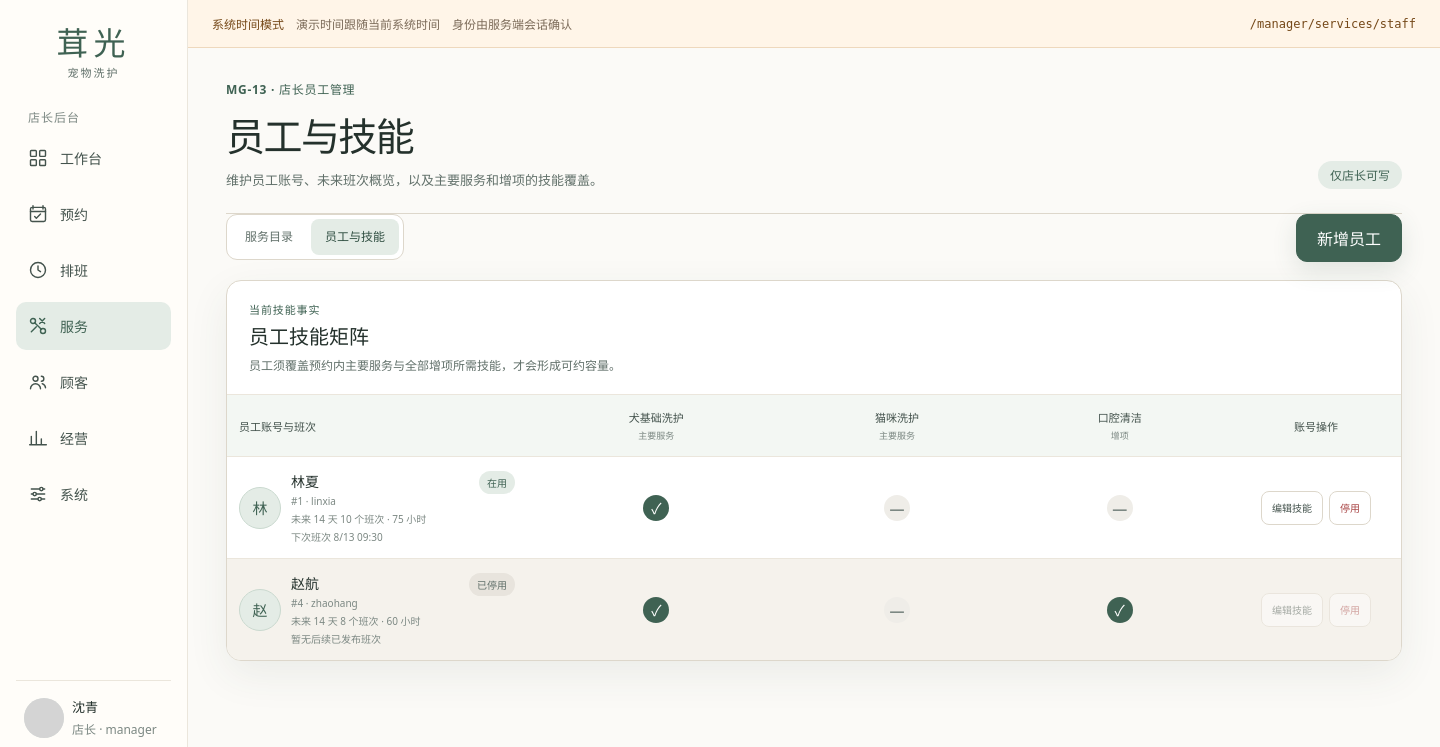
Scenario: MG-13 员工账号与员工技能页面 › 停用被未来预约阻断时列出准确错误与逐笔处理入口
The image size is (1440, 747).
What coordinates should you click on to do the following:
click the button with aria-label "停用林夏账号"
I would click on:
 (1350, 508)
Its box is [1329, 490, 1371, 524].
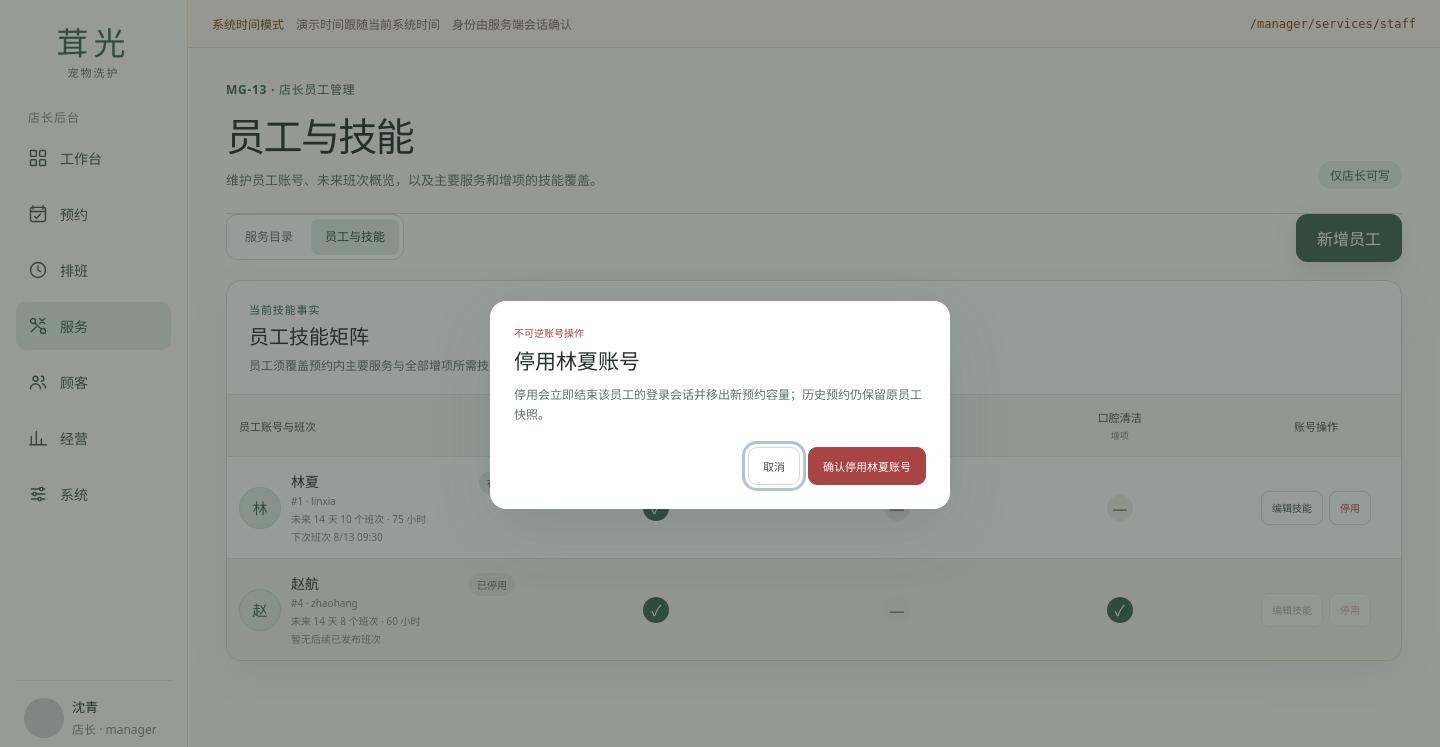
What coordinates should you click on to do the following:
click the button "确认停用林夏账号"
I would click on:
 (867, 466)
Its box is [808, 447, 926, 485].
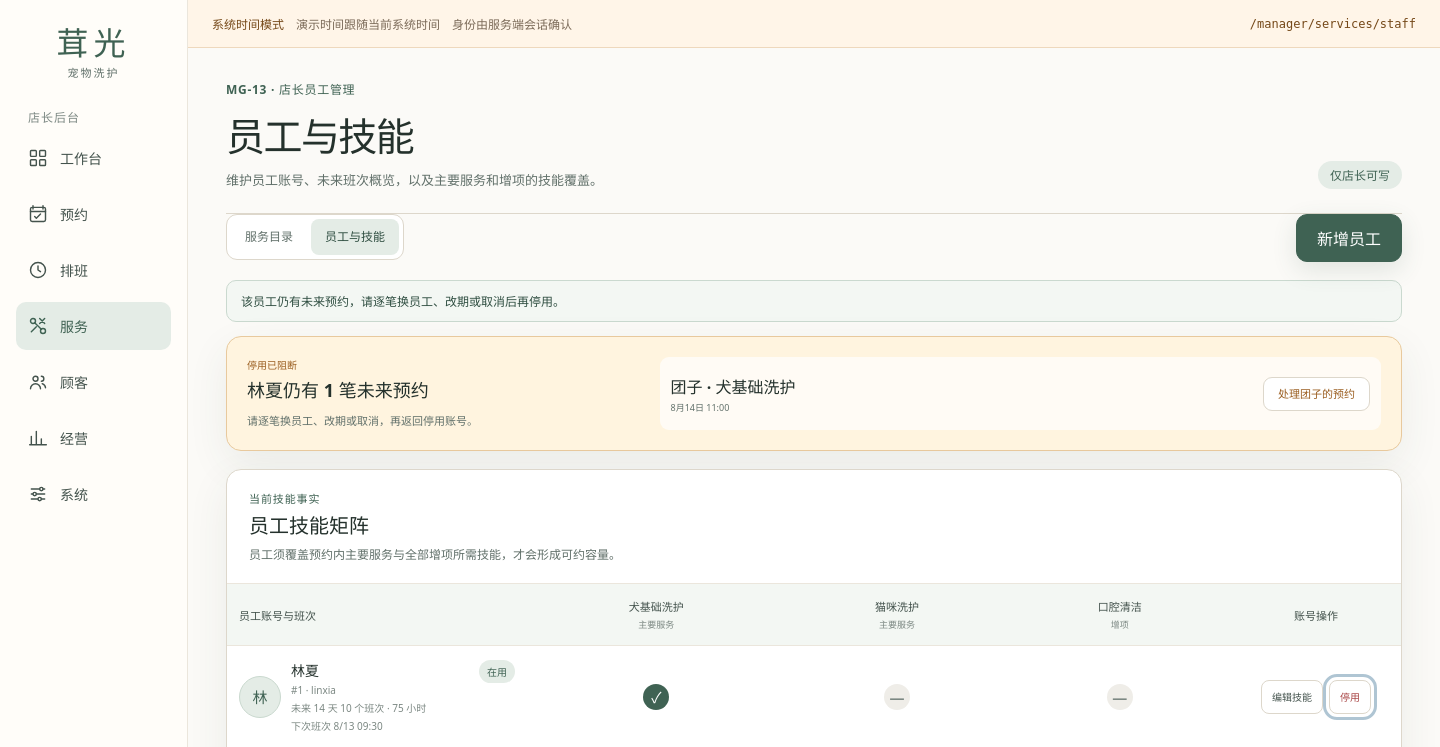
Result: the heading "林夏仍有 1 笔未来预约" is shown at [247, 378, 429, 402]
Result: the text "团子 · 犬基础洗护" is shown at [670, 374, 795, 398]
